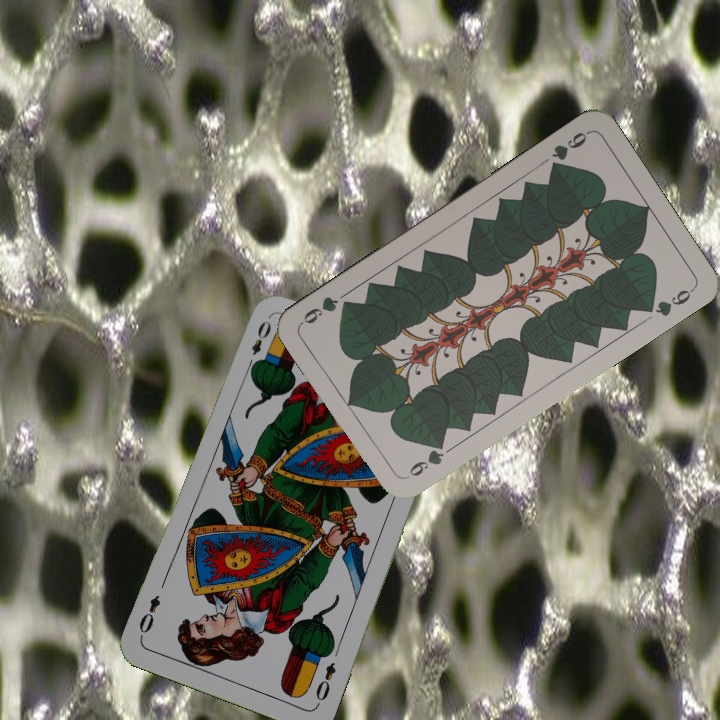EO: (243, 316, 274, 373), (311, 658, 339, 709)
G9: (401, 436, 454, 482), (546, 127, 592, 174)
